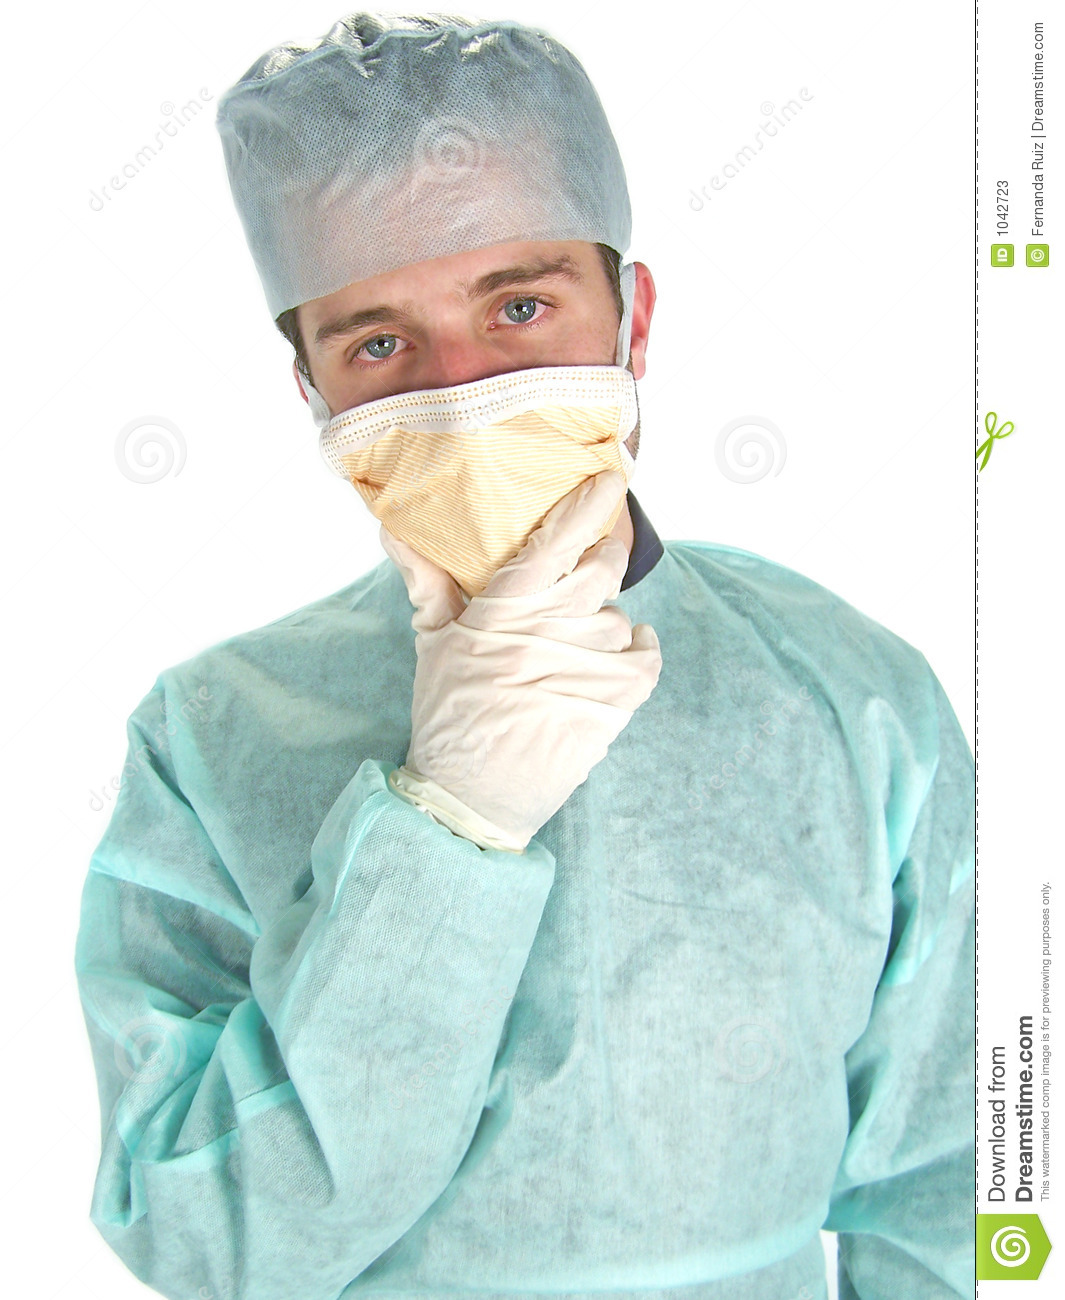mask: (312, 377, 678, 593)
